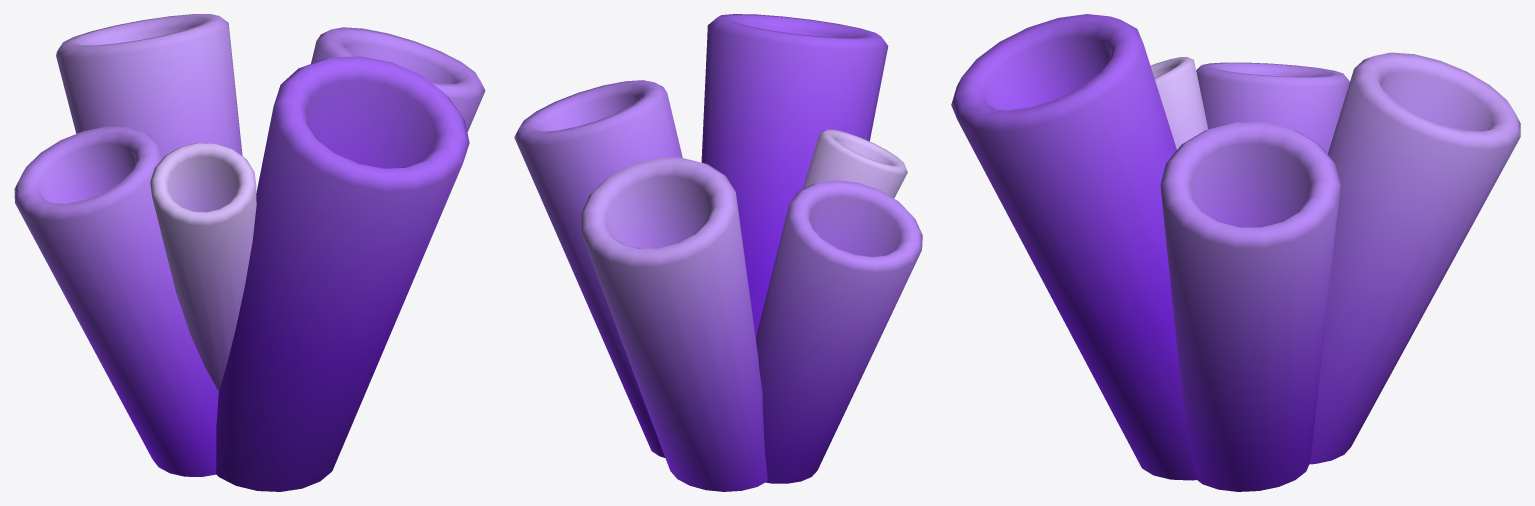
The model's file is Purple_Coral_02.fbx.
3 views of the same model, side by side, from view 1: azimuth 30°, elevation 25°; view 2: azimuth 150°, elevation 25°; view 3: azimuth 270°, elevation 25° (orthographic). The views are drawn at different scales.
Visible parts, largest first — view 1: Purple_Coral_02; view 2: Purple_Coral_02; view 3: Purple_Coral_02.
Boxes of the visible parts, left/top/right/bottom form: Purple_Coral_02: left=14, top=14, right=485, bottom=491; Purple_Coral_02: left=514, top=14, right=922, bottom=491; Purple_Coral_02: left=951, top=14, right=1520, bottom=491.
Size of the model in its own units: 100 by 93.34 by 111.
